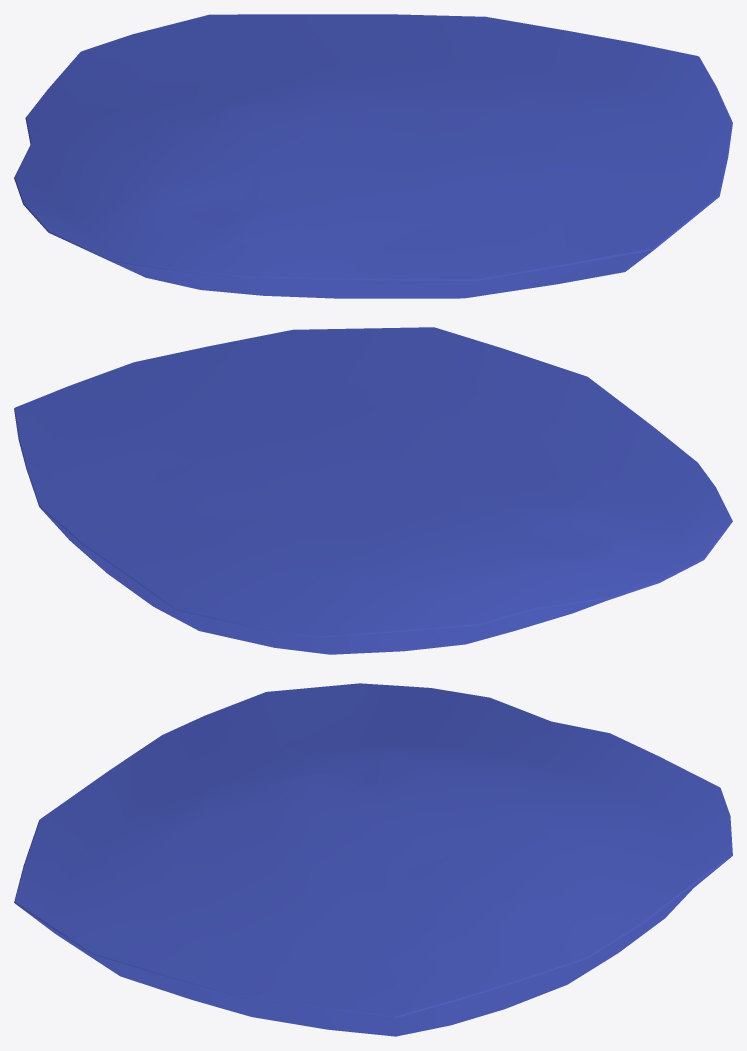
File: Floor_Hole_Rubble_01_Lod0.fbx
The picture shows the model from 3 angles, top to bottom: view 1: azimuth 30°, elevation 25°; view 2: azimuth 150°, elevation 25°; view 3: azimuth 270°, elevation 25°; orthographic projection. The views are drawn at different scales.
Visible parts, largest first — view 1: Floor_Hole_Rubble_01_Lod0; view 2: Floor_Hole_Rubble_01_Lod0; view 3: Floor_Hole_Rubble_01_Lod0.
Part boxes in pixels (left/top/right/bottom): Floor_Hole_Rubble_01_Lod0: left=14, top=14, right=732, bottom=298; Floor_Hole_Rubble_01_Lod0: left=14, top=327, right=732, bottom=654; Floor_Hole_Rubble_01_Lod0: left=14, top=683, right=732, bottom=1036.
Bounding box in the file's own units: 353 × 18.99 × 321.
